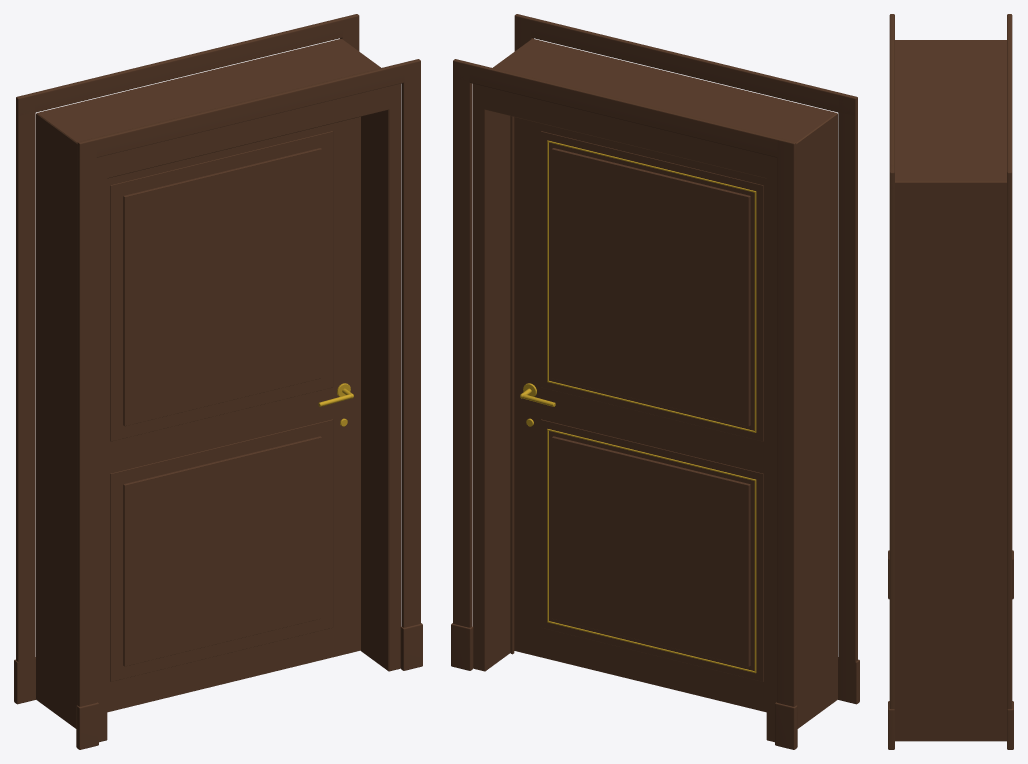
File: prop_door_service_walnut_t40.glb
3 renders of one model, left to right at view 1: azimuth 30°, elevation 25°; view 2: azimuth 150°, elevation 25°; view 3: azimuth 270°, elevation 25°, orthographic. The views are drawn at different scales.
Parts seen in each view (by area): view 1: LeafMesh, Frame; view 2: LeafMesh, Frame; view 3: Frame.
Part boxes in pixels (x1,y1,x2,y2): LeafMesh: (107, 116, 360, 712); Frame: (14, 14, 422, 749); LeafMesh: (514, 117, 766, 712); Frame: (451, 14, 859, 749); Frame: (888, 14, 1013, 749).
Size of what is drawn, in the model's own units: 1.35 by 2.27 by 0.448.
